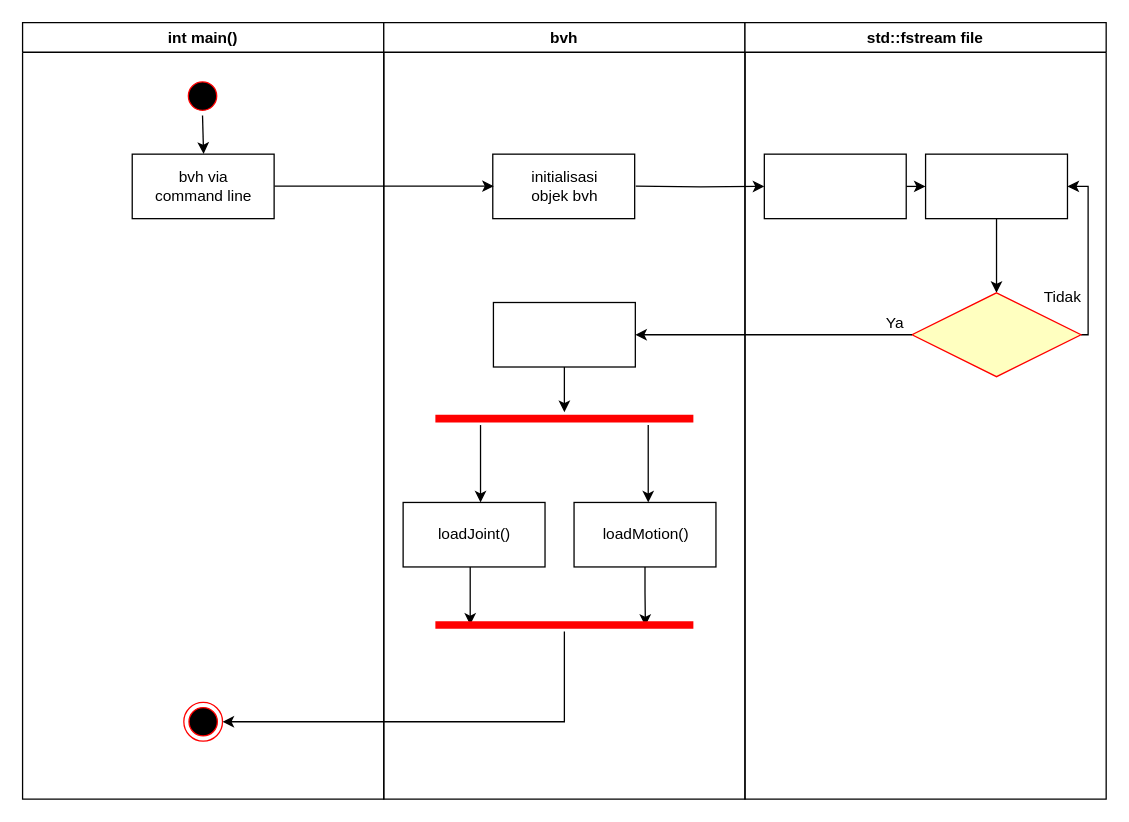
Image size: 1129x822. Some labels were removed from this diagram. Each missing label, with the centre of its shape:
baca baris: point (995, 186)
baris = "HIERARCHY" ?: point (996, 334)
initialisasi objek std::fstream: point (834, 186)
loadHierarchy(): point (563, 334)
